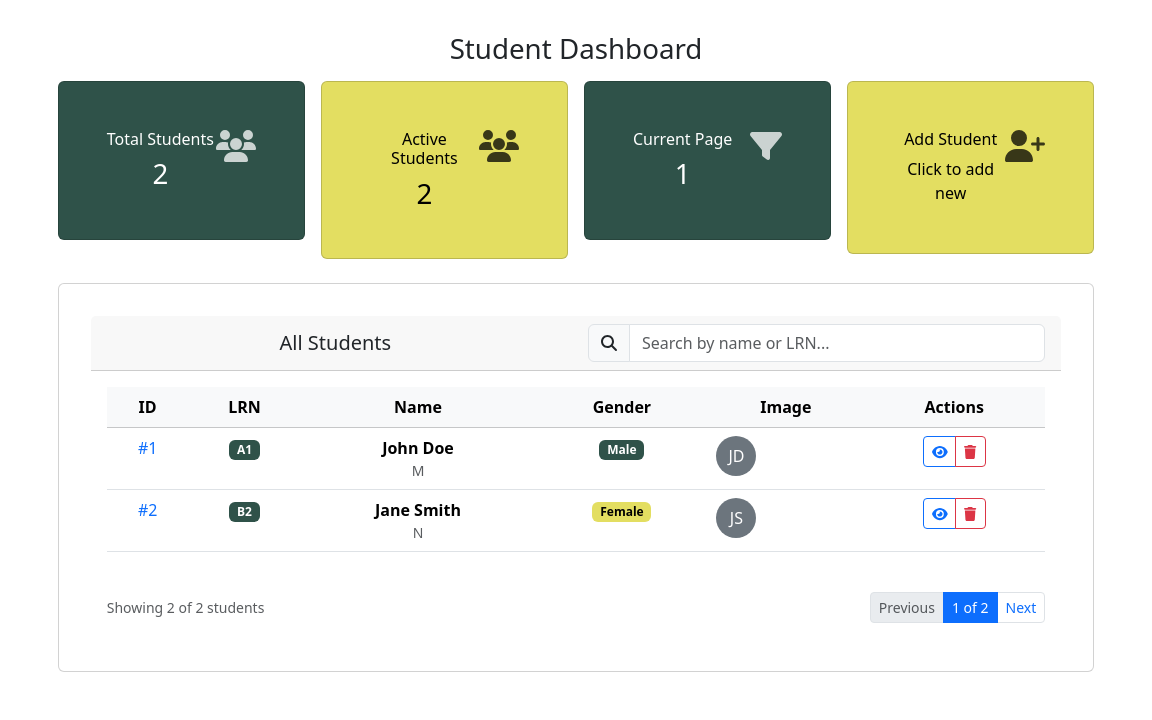
Test: Dashboard › deletes a student when confirmed
The width and height of the screenshot is (1152, 720).
Step 1. Click the button titled "Delete Student" in the row of "A1" → (971, 451), box [956,436,986,467]
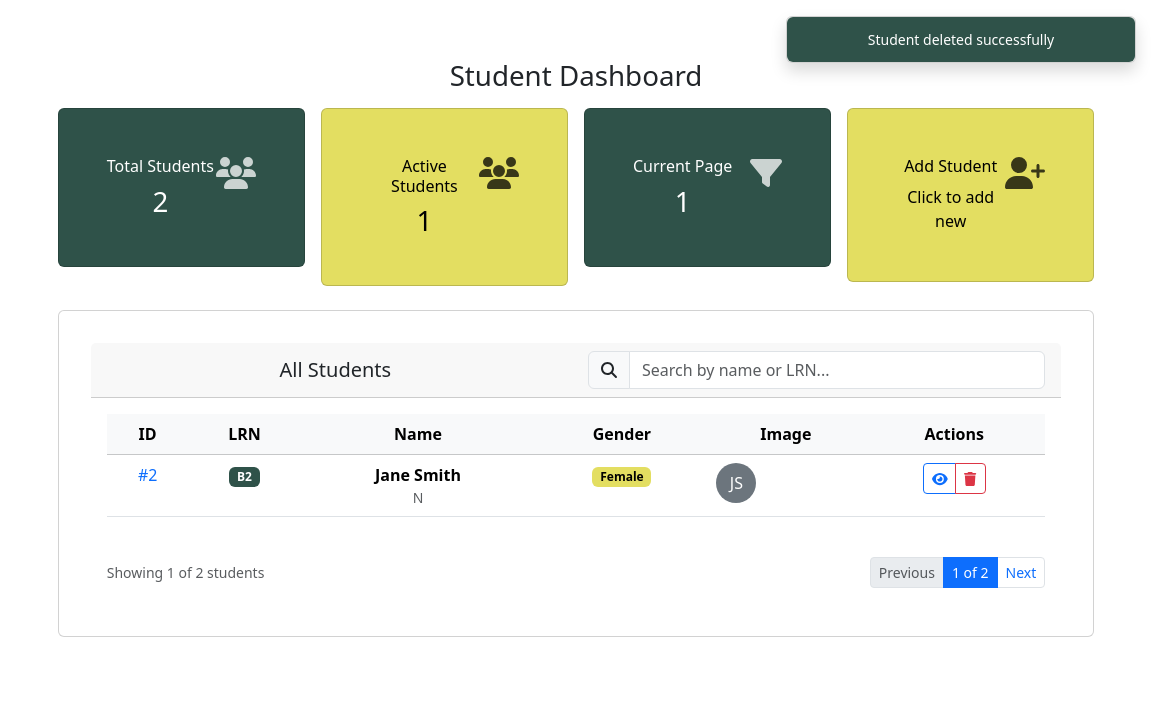
Check: the text "Student deleted successfully" is shown, box [787,17,1135,62]
